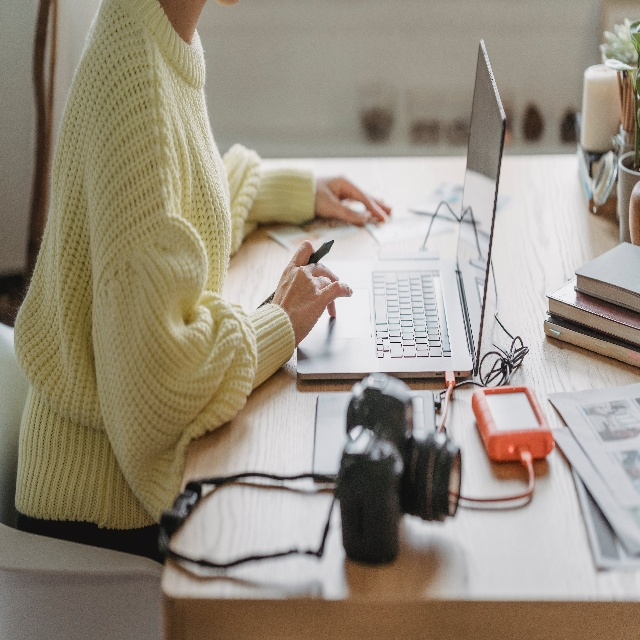Sin_guantes: (271, 237, 355, 349), (314, 171, 393, 229)
